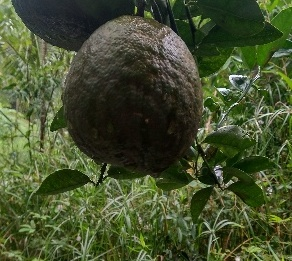Cam: (56, 14, 206, 177)
